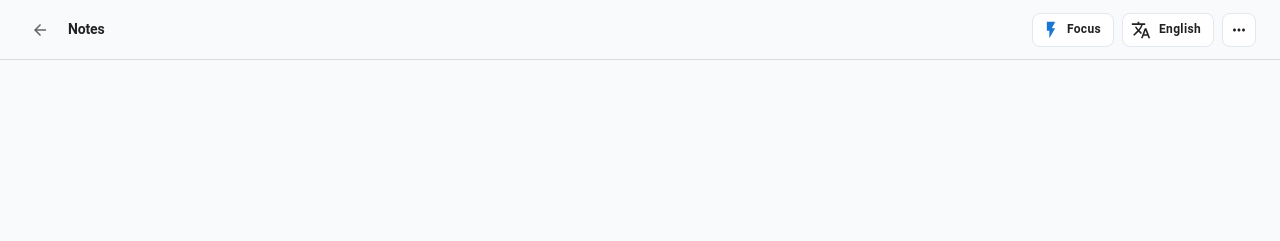
EditorHeader focus › no longer hides Focus Mode in the "…" menu
The width and height of the screenshot is (1280, 241).
Click the 4th button at (1239, 30), box [1222,12,1256,46]
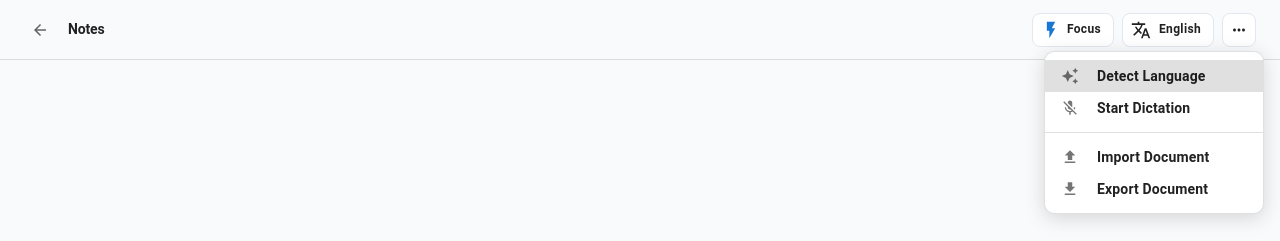
Expected: the text "Import Document" is shown, [1097,149,1209,165]
